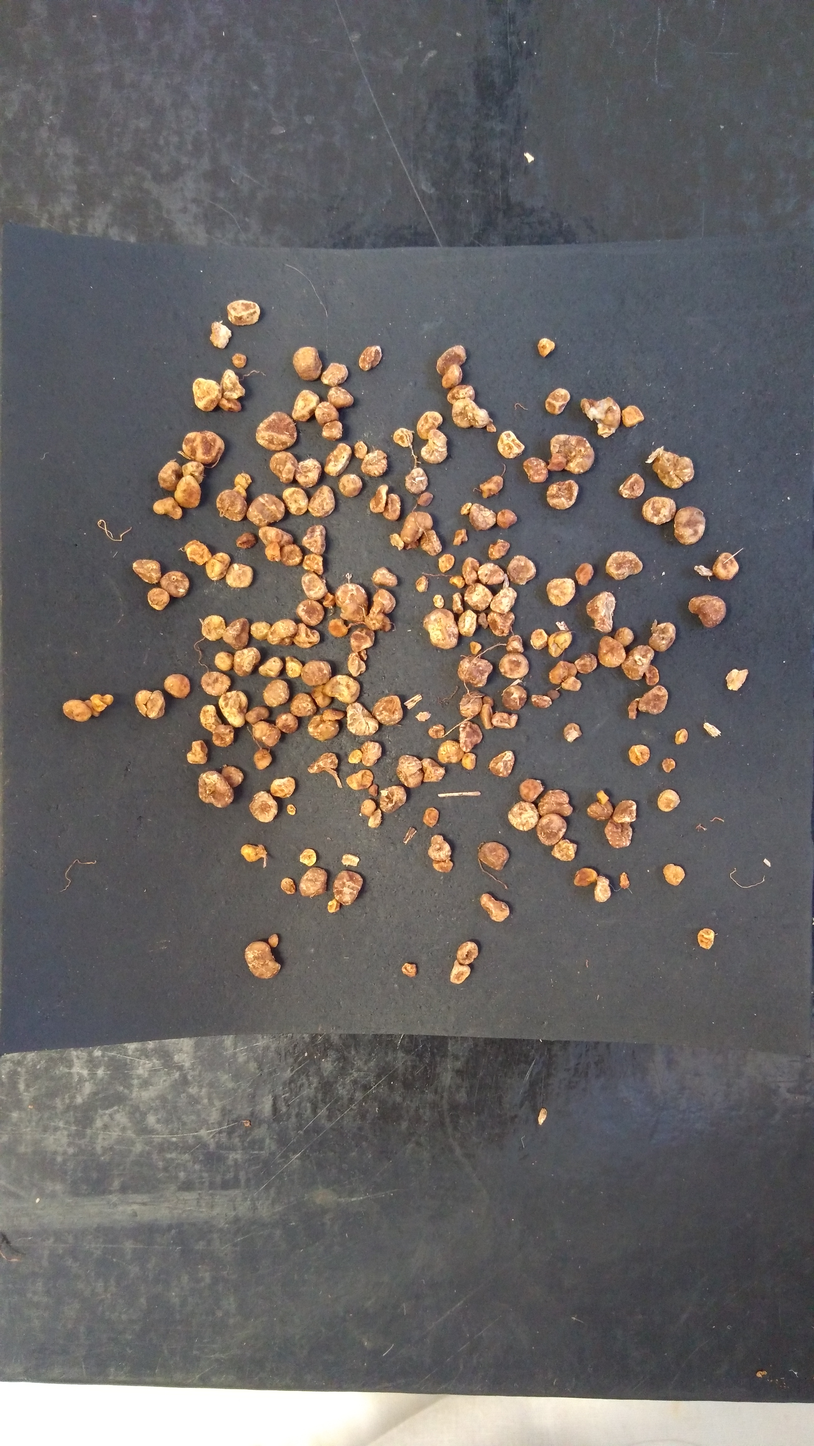nodule: (648, 444, 701, 493), (548, 431, 599, 478), (267, 449, 324, 490), (577, 392, 624, 441), (252, 409, 301, 455), (235, 936, 285, 981), (178, 427, 229, 469), (422, 605, 462, 654), (672, 502, 711, 552), (244, 489, 290, 531), (332, 579, 370, 627), (685, 592, 731, 631), (198, 703, 236, 750), (433, 342, 470, 390), (532, 784, 576, 822), (287, 342, 326, 384), (196, 768, 235, 810), (330, 868, 370, 908), (455, 653, 496, 691), (449, 397, 492, 433), (216, 688, 251, 732), (130, 686, 169, 725), (544, 476, 584, 514), (604, 549, 650, 582), (584, 589, 617, 634), (620, 641, 655, 683), (399, 508, 436, 547), (533, 810, 569, 850), (475, 889, 512, 927), (723, 662, 759, 700), (224, 297, 265, 330), (321, 673, 363, 705), (646, 618, 681, 656), (640, 492, 680, 525), (156, 567, 197, 599), (189, 376, 223, 414), (346, 700, 380, 738), (505, 795, 538, 834), (371, 694, 407, 729), (634, 683, 669, 719), (320, 441, 354, 478), (305, 483, 339, 520), (393, 754, 426, 792), (596, 633, 629, 671), (214, 488, 249, 523), (478, 839, 513, 874), (217, 367, 253, 401), (220, 616, 254, 652), (503, 553, 539, 587), (125, 557, 165, 587), (246, 790, 280, 825), (496, 648, 532, 681), (542, 575, 576, 609), (249, 718, 285, 750), (603, 816, 635, 852), (617, 469, 649, 505), (290, 389, 321, 426), (684, 923, 723, 952), (413, 407, 445, 442), (454, 719, 486, 754), (418, 753, 450, 788), (238, 842, 278, 870), (305, 713, 341, 744), (147, 495, 184, 525), (223, 559, 256, 592), (299, 523, 331, 557), (154, 459, 185, 494), (173, 474, 202, 511), (197, 668, 234, 697), (298, 658, 335, 687), (259, 676, 292, 708), (263, 617, 296, 649), (710, 550, 743, 582), (297, 568, 329, 600), (608, 796, 640, 828), (203, 550, 234, 583), (290, 619, 321, 652), (378, 783, 409, 816), (548, 835, 581, 866), (496, 428, 527, 461), (541, 384, 572, 417), (325, 384, 359, 414), (486, 746, 516, 780), (400, 463, 431, 495), (232, 646, 263, 678), (207, 320, 240, 350), (463, 581, 496, 611), (586, 787, 614, 822), (295, 596, 326, 627), (196, 612, 228, 642), (513, 773, 545, 803), (468, 503, 500, 533), (520, 454, 552, 484), (282, 486, 311, 519), (456, 690, 489, 719), (484, 611, 518, 639), (255, 524, 296, 547), (355, 342, 385, 373), (359, 449, 390, 479), (625, 741, 656, 771), (162, 671, 194, 700), (434, 739, 466, 768), (488, 585, 521, 613), (306, 749, 341, 775), (500, 682, 529, 713), (454, 937, 483, 968), (287, 691, 319, 719), (345, 626, 377, 654), (425, 834, 458, 861), (545, 659, 578, 686), (58, 697, 92, 723), (336, 471, 366, 500), (318, 361, 350, 388), (182, 737, 209, 769), (182, 540, 215, 566), (144, 584, 173, 613), (366, 480, 390, 515), (417, 529, 445, 559), (618, 400, 646, 430), (454, 607, 480, 639), (477, 473, 509, 499), (380, 491, 404, 525), (313, 397, 342, 425), (660, 861, 688, 890), (369, 563, 401, 588), (395, 958, 428, 982), (545, 629, 573, 657), (359, 740, 386, 769), (370, 585, 397, 614), (460, 554, 483, 588), (476, 561, 507, 586), (344, 768, 377, 791), (592, 873, 615, 906), (447, 958, 475, 985), (571, 560, 598, 588), (247, 617, 273, 646), (655, 788, 685, 813), (274, 710, 301, 737), (389, 425, 417, 451), (179, 460, 208, 485), (362, 610, 392, 634), (484, 535, 514, 559), (318, 419, 349, 442), (220, 762, 246, 789), (300, 552, 327, 578), (572, 865, 599, 891), (612, 625, 638, 652), (282, 653, 307, 681), (277, 542, 305, 567), (256, 655, 285, 679), (445, 385, 479, 405), (573, 651, 599, 677), (343, 651, 368, 678), (269, 775, 298, 798), (491, 709, 520, 732), (234, 529, 261, 553), (308, 681, 332, 708), (244, 704, 272, 727), (494, 507, 519, 532), (252, 747, 276, 773), (532, 334, 558, 358), (528, 625, 551, 651), (422, 804, 444, 831), (89, 691, 115, 713), (319, 704, 349, 723), (212, 651, 237, 673), (358, 794, 380, 819), (430, 858, 458, 877), (326, 614, 348, 638), (435, 549, 457, 573), (412, 488, 438, 508), (214, 395, 241, 414), (504, 634, 527, 656), (478, 701, 495, 730), (616, 869, 638, 891), (529, 691, 553, 711), (561, 722, 586, 741), (642, 661, 661, 686), (459, 750, 479, 773), (671, 727, 694, 747), (262, 541, 283, 562), (449, 527, 470, 548), (81, 697, 102, 718), (659, 756, 681, 776), (424, 721, 447, 740), (625, 698, 640, 727), (297, 847, 318, 867), (451, 590, 467, 615), (233, 471, 254, 490), (411, 573, 430, 594), (278, 876, 297, 897), (561, 676, 584, 693), (387, 529, 405, 550), (367, 807, 384, 829), (229, 351, 249, 369), (353, 439, 369, 460), (346, 746, 362, 767), (266, 930, 282, 951), (339, 852, 361, 867), (320, 592, 338, 610), (448, 572, 465, 590), (326, 897, 342, 916), (481, 693, 498, 709), (457, 499, 473, 516), (431, 592, 445, 611), (476, 611, 489, 631), (468, 640, 484, 656), (285, 802, 299, 818), (367, 783, 379, 799), (547, 688, 561, 700)
